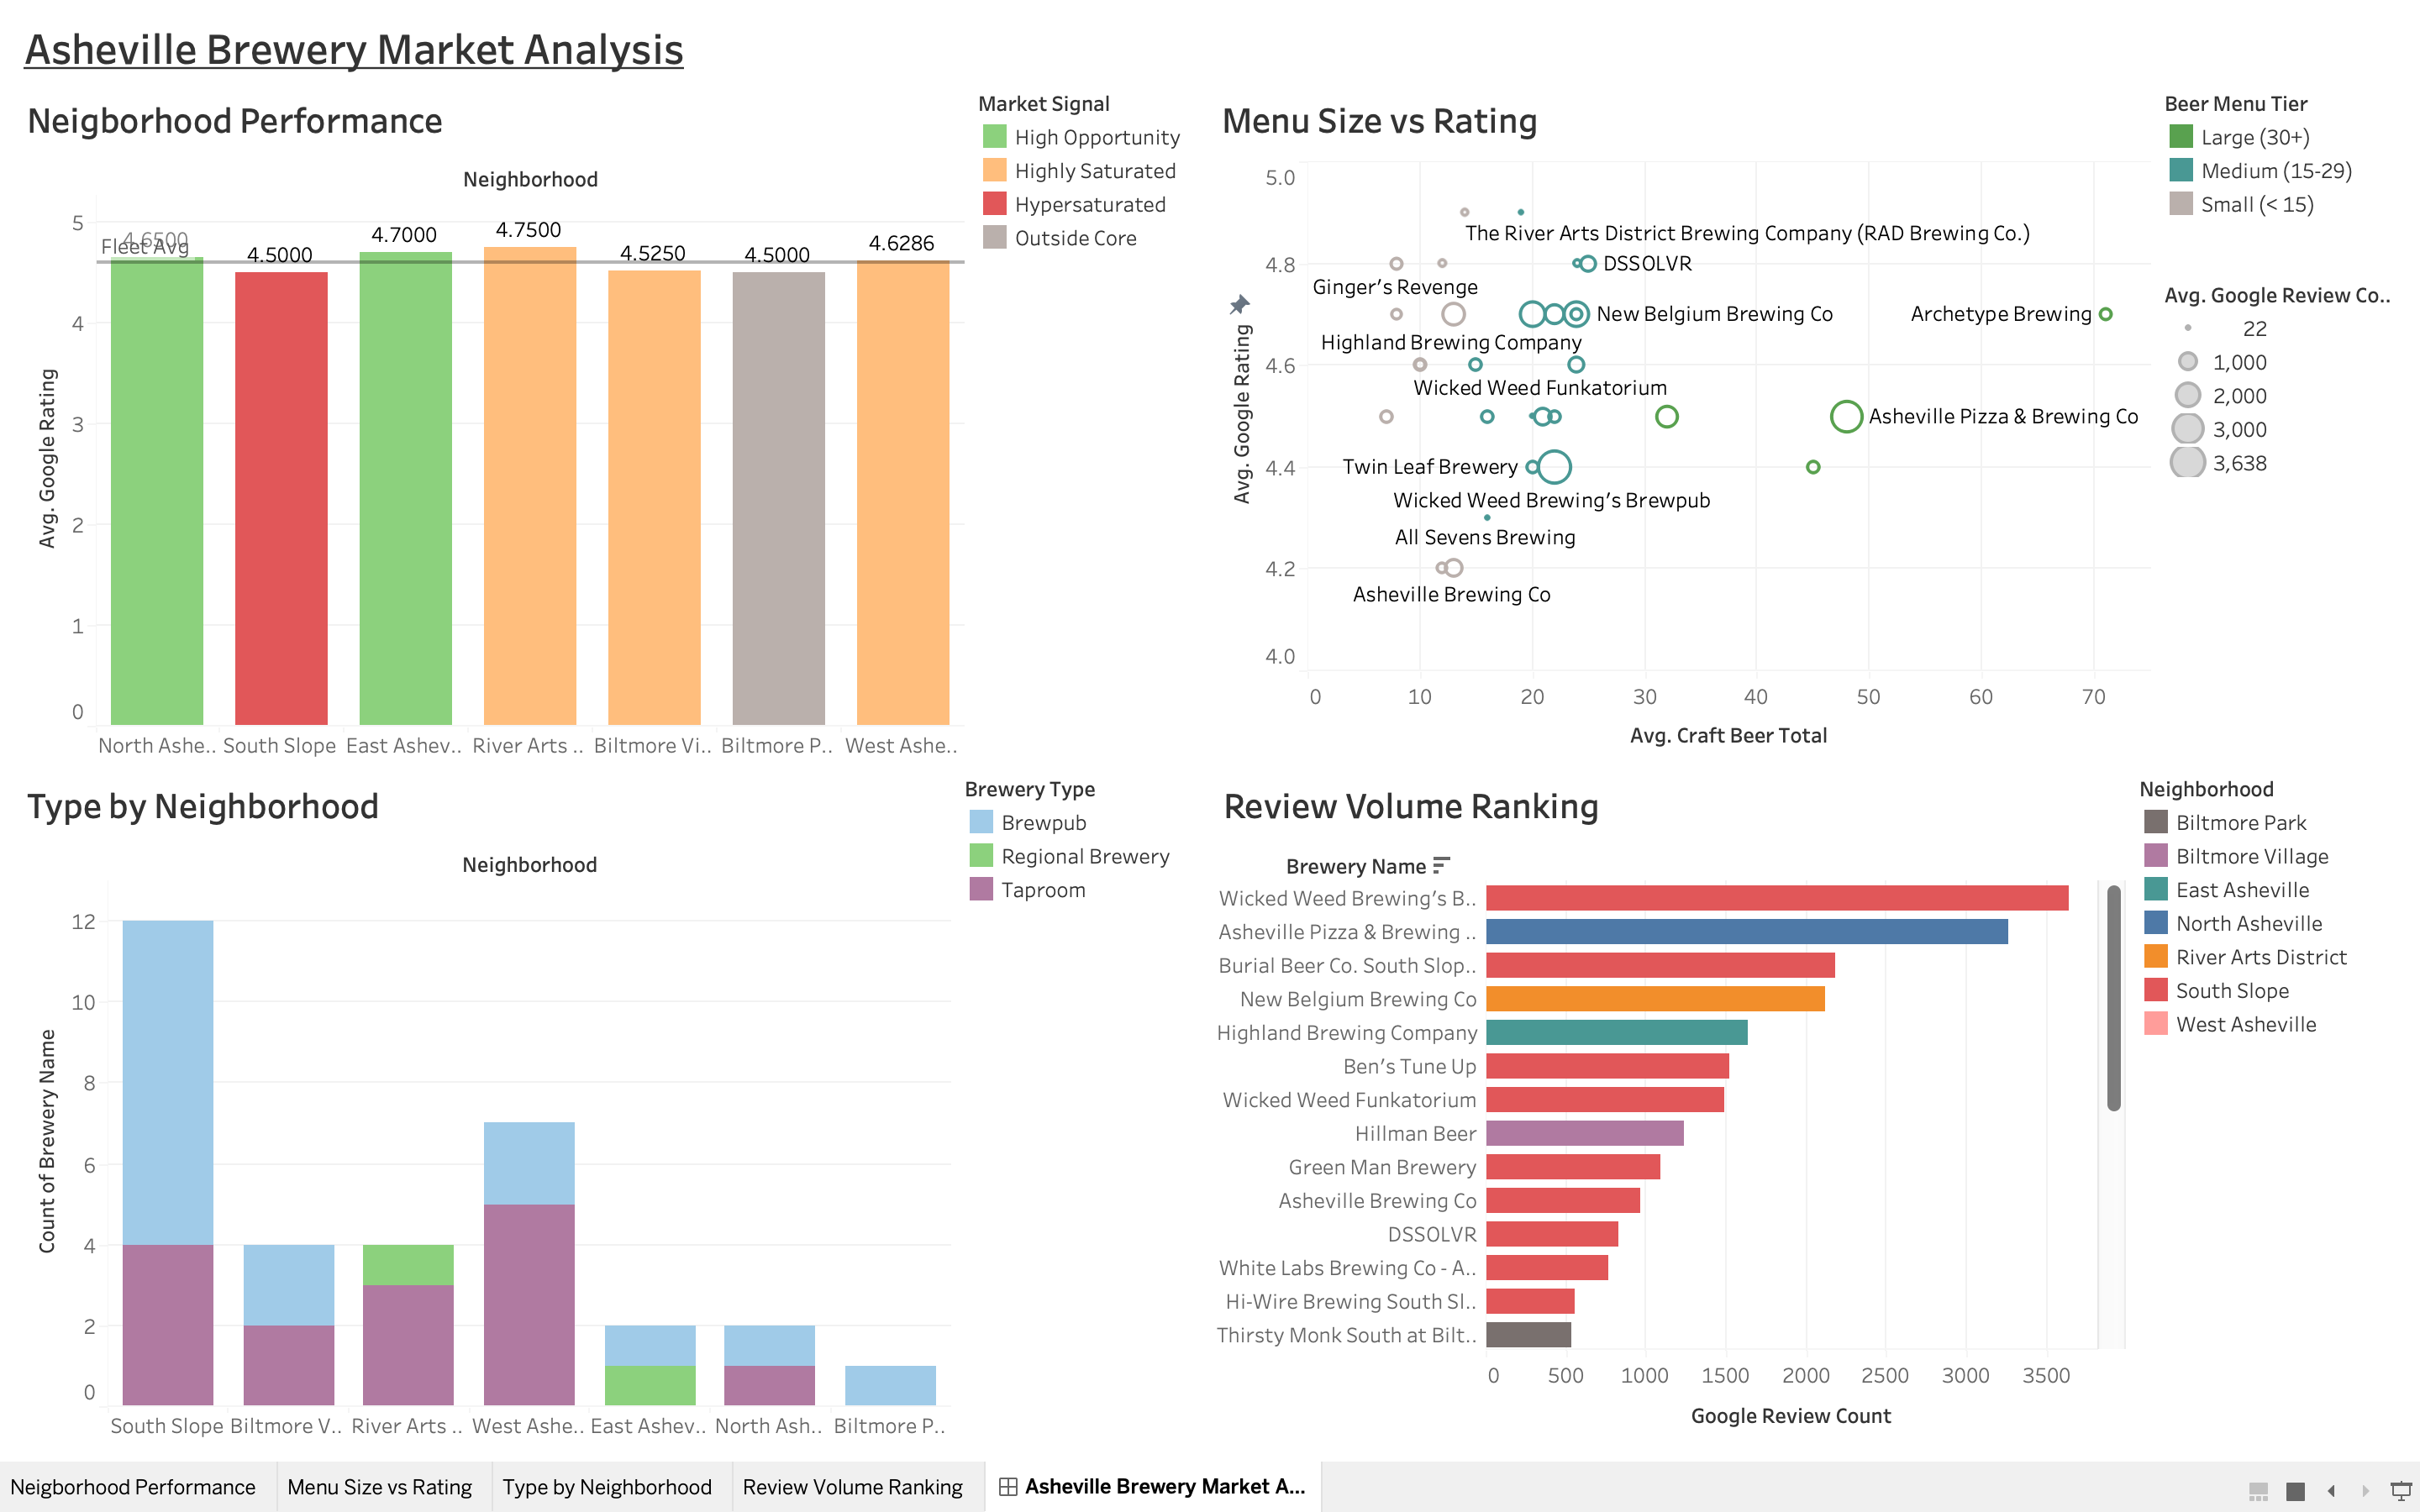

Layout of this report page (visuals, bound fields, positions):
{"tool":"tableau","page":{"name":"Asheville Brewery Market Analysis","canvas":[1000,1000],"units":"permille","ordinal":0},"visuals":[{"type":"title","box":[16.1,11.8,967.8,60.5]},{"type":"worksheet","title":"Neigborhood Performance","mark":"Automatic","rows":["google_rating"],"cols":["neighborhood"],"box":[16.1,72.3,199.7,459.9]},{"type":"legend","title":"Neigborhood Performance","param":"[federated.0e7pakv050v0t112rgxxq1gu1ju3].[none:market_signal:nk]","box":[215.8,72.3,283.7,156.3]},{"type":"worksheet","title":"Menu Size vs Rating","mark":"Automatic","rows":["google_rating"],"cols":["craft_beer_total"],"box":[499.5,72.3,383.8,459.9]},{"type":"legend","title":"Menu Size vs Rating","param":"[federated.0e7pakv050v0t112rgxxq1gu1ju3].[none:beer_menu_tier:nk]","box":[883.3,72.3,100.6,128.5]},{"type":"legend","title":"Menu Size vs Rating","param":"[federated.0e7pakv050v0t112rgxxq1gu1ju3].[avg:google_review_count:qk]","box":[883.3,200.7,100.6,331.4]},{"type":"worksheet","title":"Type by Neighborhood","mark":"Automatic","rows":["brewery_name"],"cols":["neighborhood"],"box":[16.1,532.2,382.1,456]},{"type":"legend","title":"Type by Neighborhood","param":"[federated.0e7pakv050v0t112rgxxq1gu1ju3].[none:brewery_type:nk]","box":[398.2,532.2,101.8,456]},{"type":"worksheet","title":"Review Volume Ranking","mark":"Automatic","rows":["brewery_name"],"cols":["google_review_count"],"box":[500,532.2,372.9,456]},{"type":"legend","title":"Review Volume Ranking","param":"[federated.0e7pakv050v0t112rgxxq1gu1ju3].[none:neighborhood:nk]","box":[872.9,532.2,111,456]}]}

Visuals, with their boxes on the dashboard's canvas, which has no fixed pixel size, in thousandths of its width and height (x1, y1, x2, y2). These are canvas units, not pixel positions in the 2420x1512 screenshot, which may show the page scaled, cropped or inside an application window:
title: left=16, top=12, right=984, bottom=72
"Neigborhood Performance" worksheet: left=16, top=72, right=216, bottom=532
"Neigborhood Performance" legend: left=216, top=72, right=500, bottom=229
"Menu Size vs Rating" worksheet: left=500, top=72, right=883, bottom=532
"Menu Size vs Rating" legend: left=883, top=72, right=984, bottom=201
"Menu Size vs Rating" legend: left=883, top=201, right=984, bottom=532
"Type by Neighborhood" worksheet: left=16, top=532, right=398, bottom=988
"Type by Neighborhood" legend: left=398, top=532, right=500, bottom=988
"Review Volume Ranking" worksheet: left=500, top=532, right=873, bottom=988
"Review Volume Ranking" legend: left=873, top=532, right=984, bottom=988
